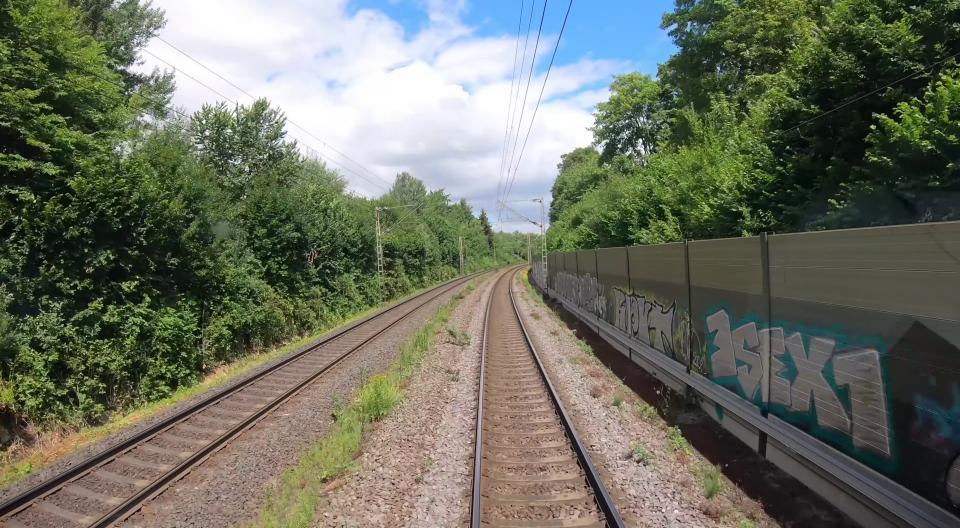Plant: (248, 281, 476, 528), (729, 486, 771, 524), (666, 426, 694, 464), (522, 273, 548, 307), (624, 444, 654, 466), (703, 468, 722, 499), (635, 401, 662, 421), (445, 325, 470, 346), (699, 500, 721, 520), (578, 340, 595, 358), (737, 519, 759, 528), (612, 394, 624, 407), (590, 386, 602, 398), (568, 356, 584, 364), (590, 371, 602, 378), (530, 312, 541, 319), (550, 330, 559, 336)
